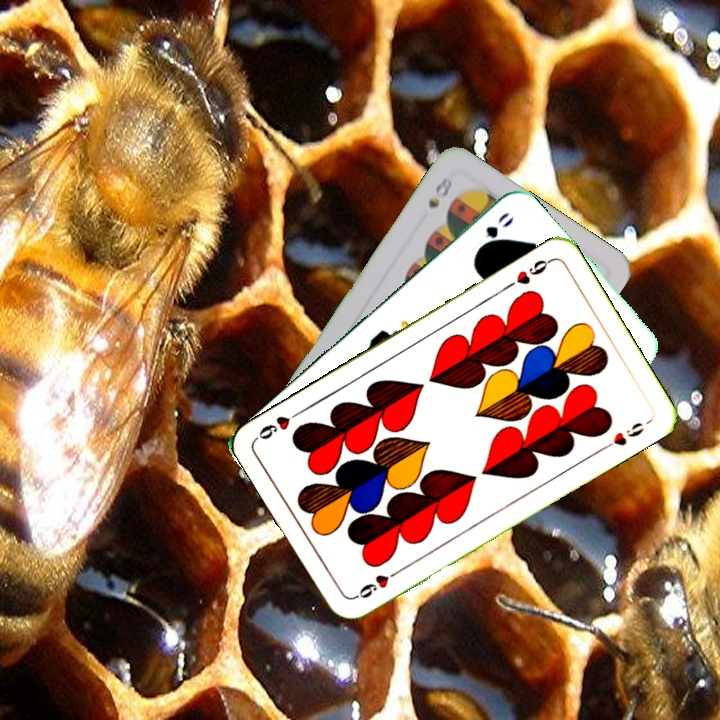GO: (471, 208, 517, 257)
H9: (501, 254, 555, 291), (350, 564, 404, 601)
S8: (424, 172, 455, 211)
